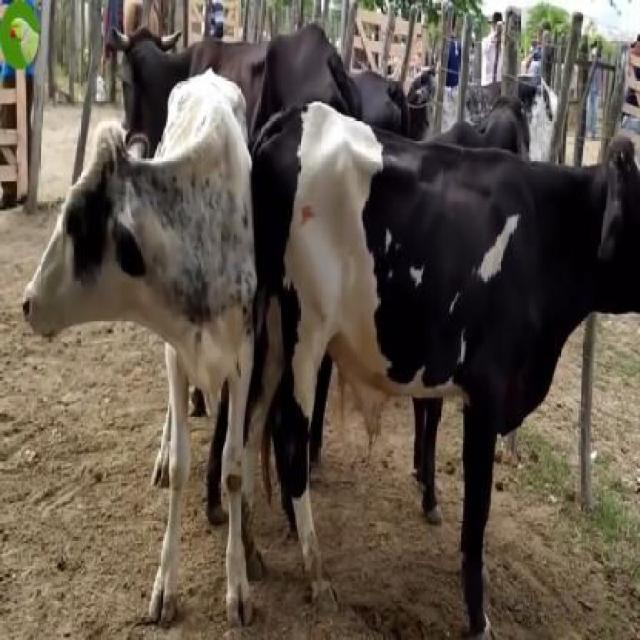Cow: (252, 100, 638, 634), (23, 70, 255, 624)
